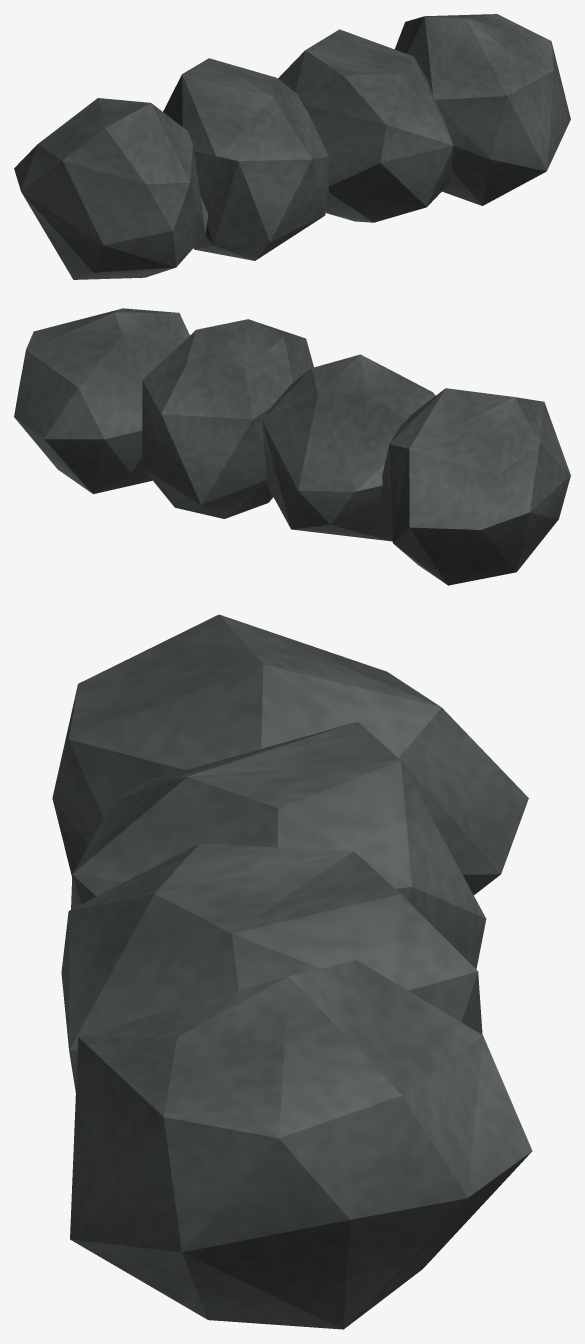
The model's file is harbor.breakwater.lod1.glb.
3 views of the same model, one above another, from view 1: azimuth 30°, elevation 25°; view 2: azimuth 150°, elevation 25°; view 3: azimuth 270°, elevation 25° (orthographic). The views are drawn at different scales.
Visible parts, largest first — view 1: Block, Block.001, Block.002, Block.003; view 2: Block, Block.002, Block.003, Block.001; view 3: Block.003, Block, Block.002, Block.001.
Part boxes in pixels (bbox=[...]): Block: bbox=[14, 98, 208, 279]; Block.001: bbox=[163, 58, 328, 260]; Block.002: bbox=[278, 29, 453, 222]; Block.003: bbox=[394, 14, 570, 205]; Block: bbox=[381, 388, 570, 585]; Block.002: bbox=[142, 319, 313, 518]; Block.003: bbox=[14, 308, 189, 494]; Block.001: bbox=[262, 354, 435, 541]; Block.003: bbox=[70, 960, 532, 1329]; Block: bbox=[52, 614, 528, 895]; Block.002: bbox=[61, 843, 482, 1092]; Block.001: bbox=[71, 722, 486, 969].
Bounding box in the file's own units: 7.63 × 2.52 × 3.11.
1 material, 1 textured.
